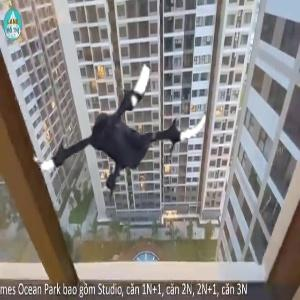drone: (31, 35, 213, 217)
